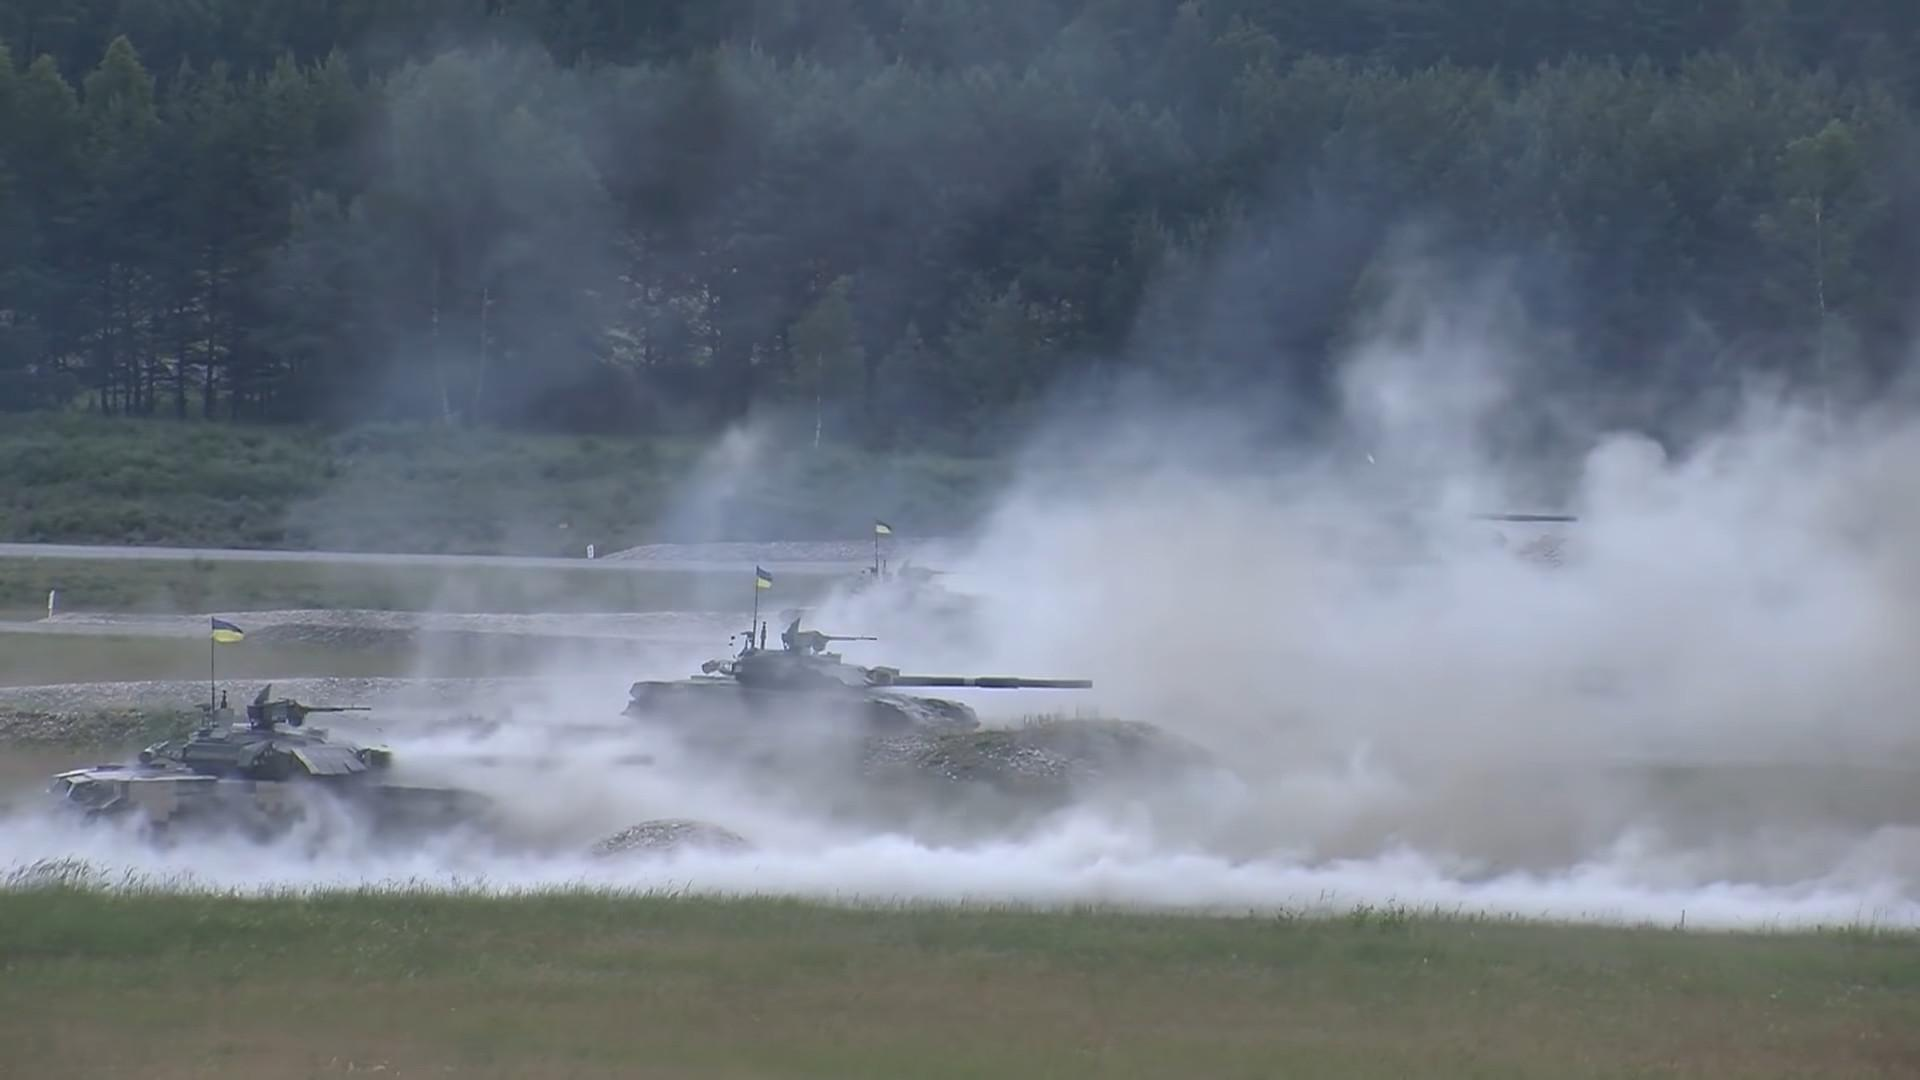tank: (618, 620, 1095, 740), (45, 698, 396, 816)
